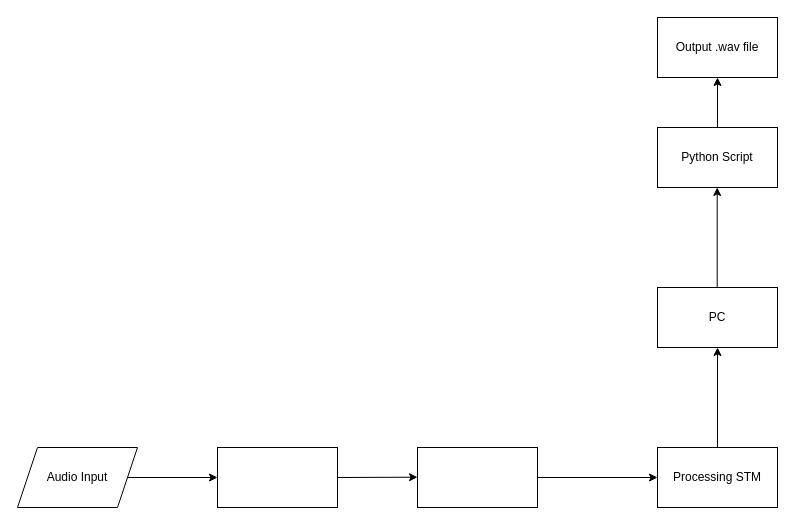
The diagram is 795 pixels wide and 525 high, and some of its shapes have lost their labels. The centre of each missing label's shape, as x and y in pixels:
ADC: (x=277, y=477)
Sampling STM: (x=477, y=477)
